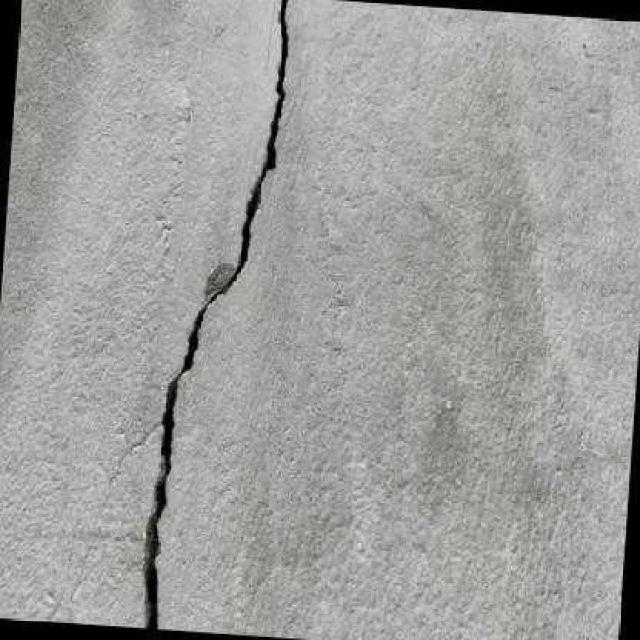D00: (139, 3, 293, 630)
